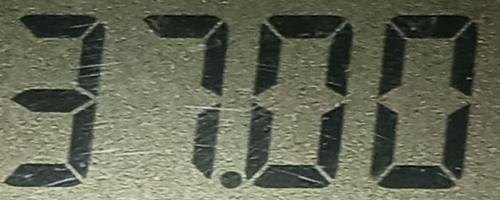.: (216, 168, 244, 191)
